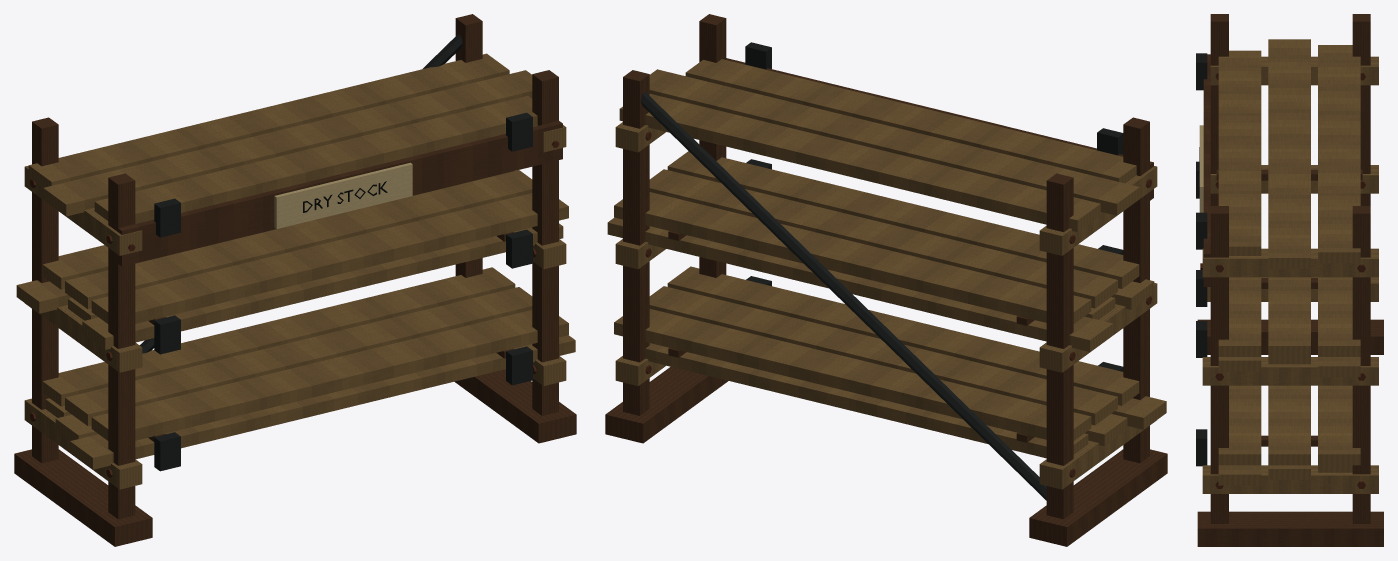
Rendered from level_work_timber_rack.glb.
3 views of the same model, side by side, from view 1: azimuth 30°, elevation 25°; view 2: azimuth 150°, elevation 25°; view 3: azimuth 270°, elevation 25° (orthographic). The views are drawn at different scales.
Parts seen in each view (by area): view 1: level_work_timber_rack; view 2: level_work_timber_rack; view 3: level_work_timber_rack.
Boxes of the visible parts, x1=… form: level_work_timber_rack: x1=14, y1=14, x2=576, y2=546; level_work_timber_rack: x1=605, y1=14, x2=1167, y2=546; level_work_timber_rack: x1=1196, y1=14, x2=1383, y2=546.
Size of the model in its own units: 2.55 by 1.79 by 0.9275.
Materials: 6 (6 with a texture image).
